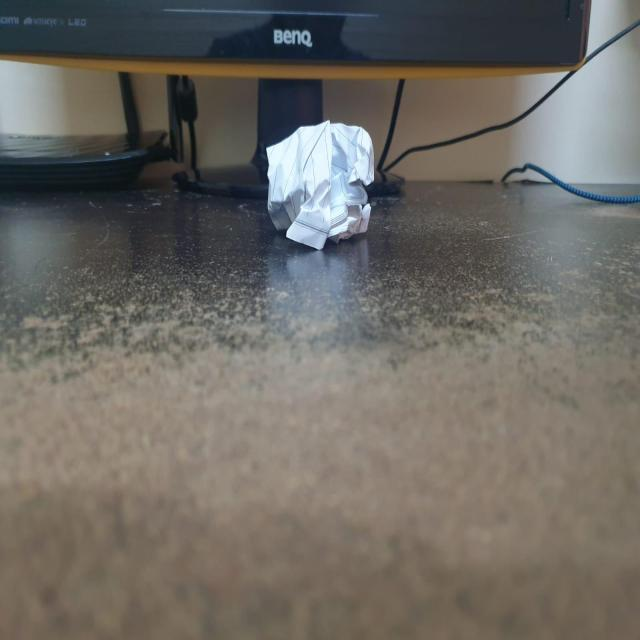Organik: (262, 118, 379, 253)
